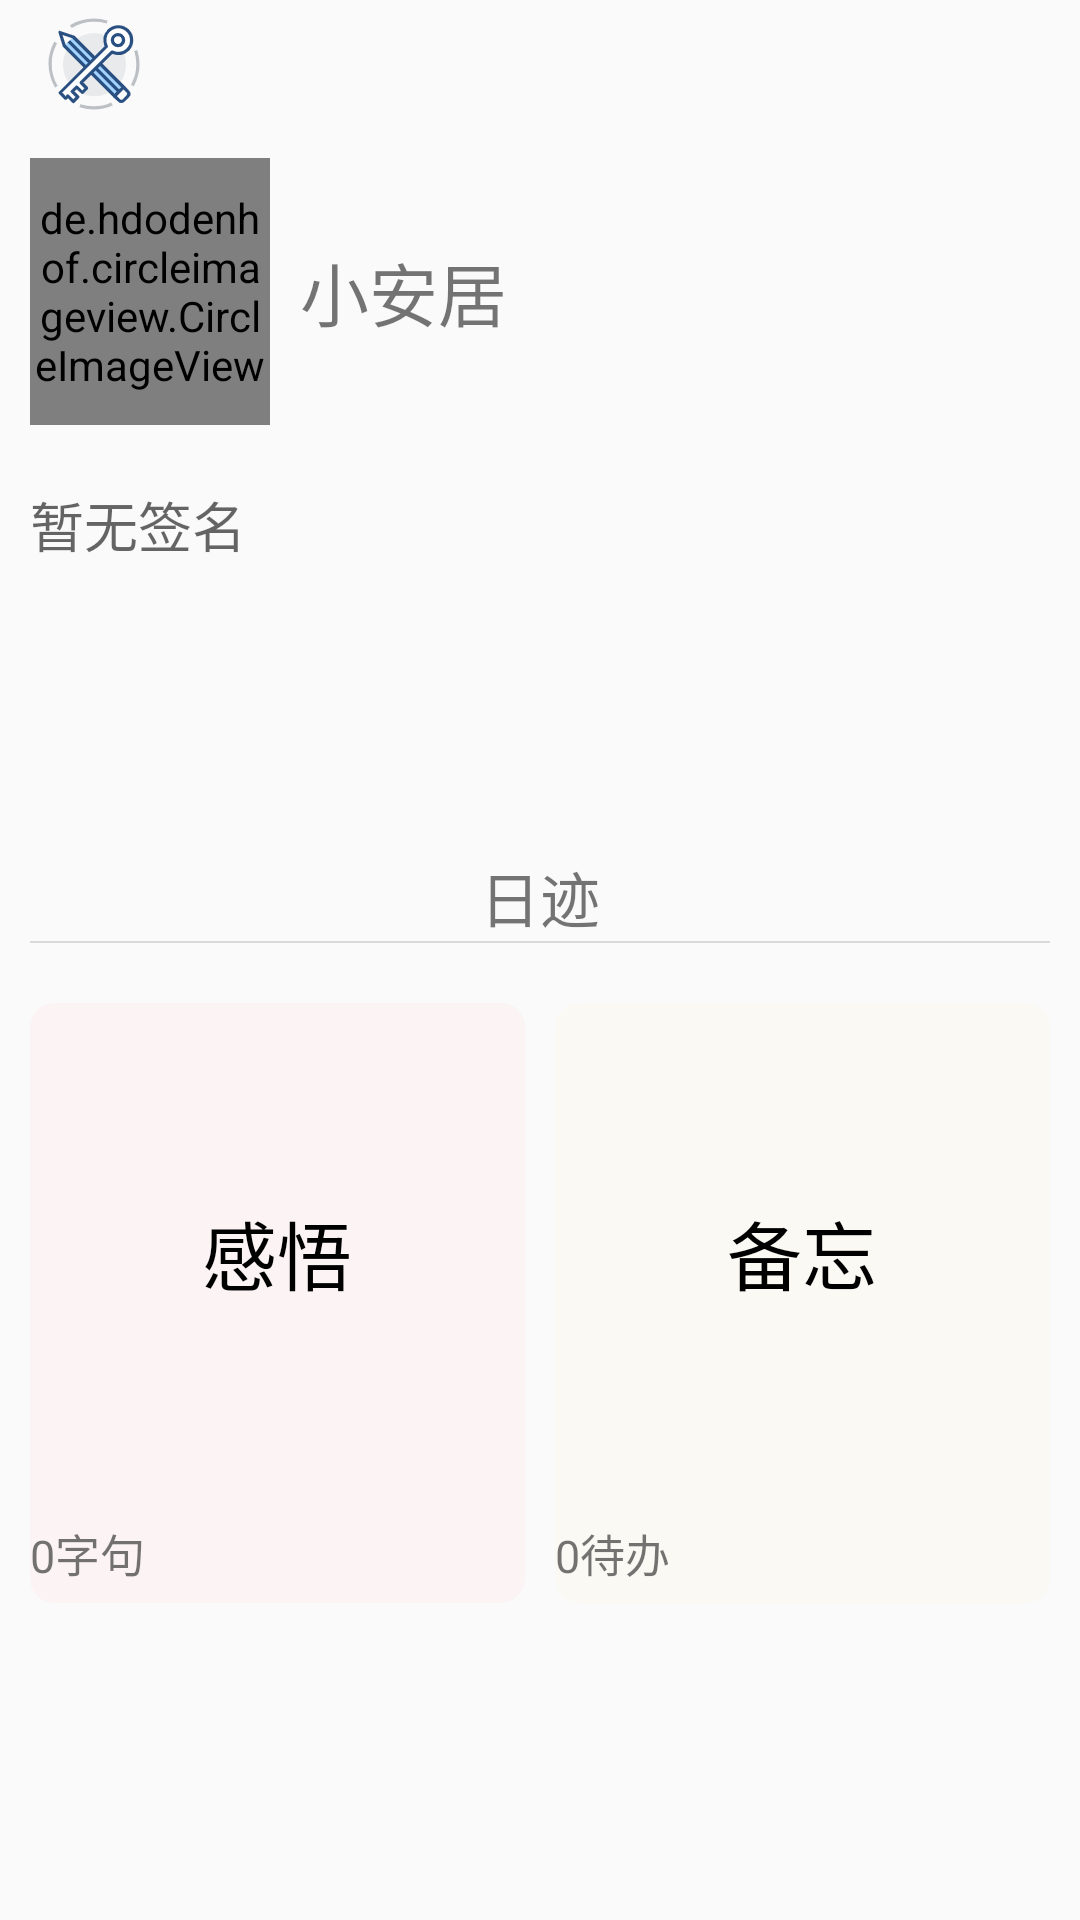

Named icons in this screenshot (1080 x 1920) and their bounding boxes, (x1, y1, x2, y2):
mine setting: (48, 18, 140, 110)
